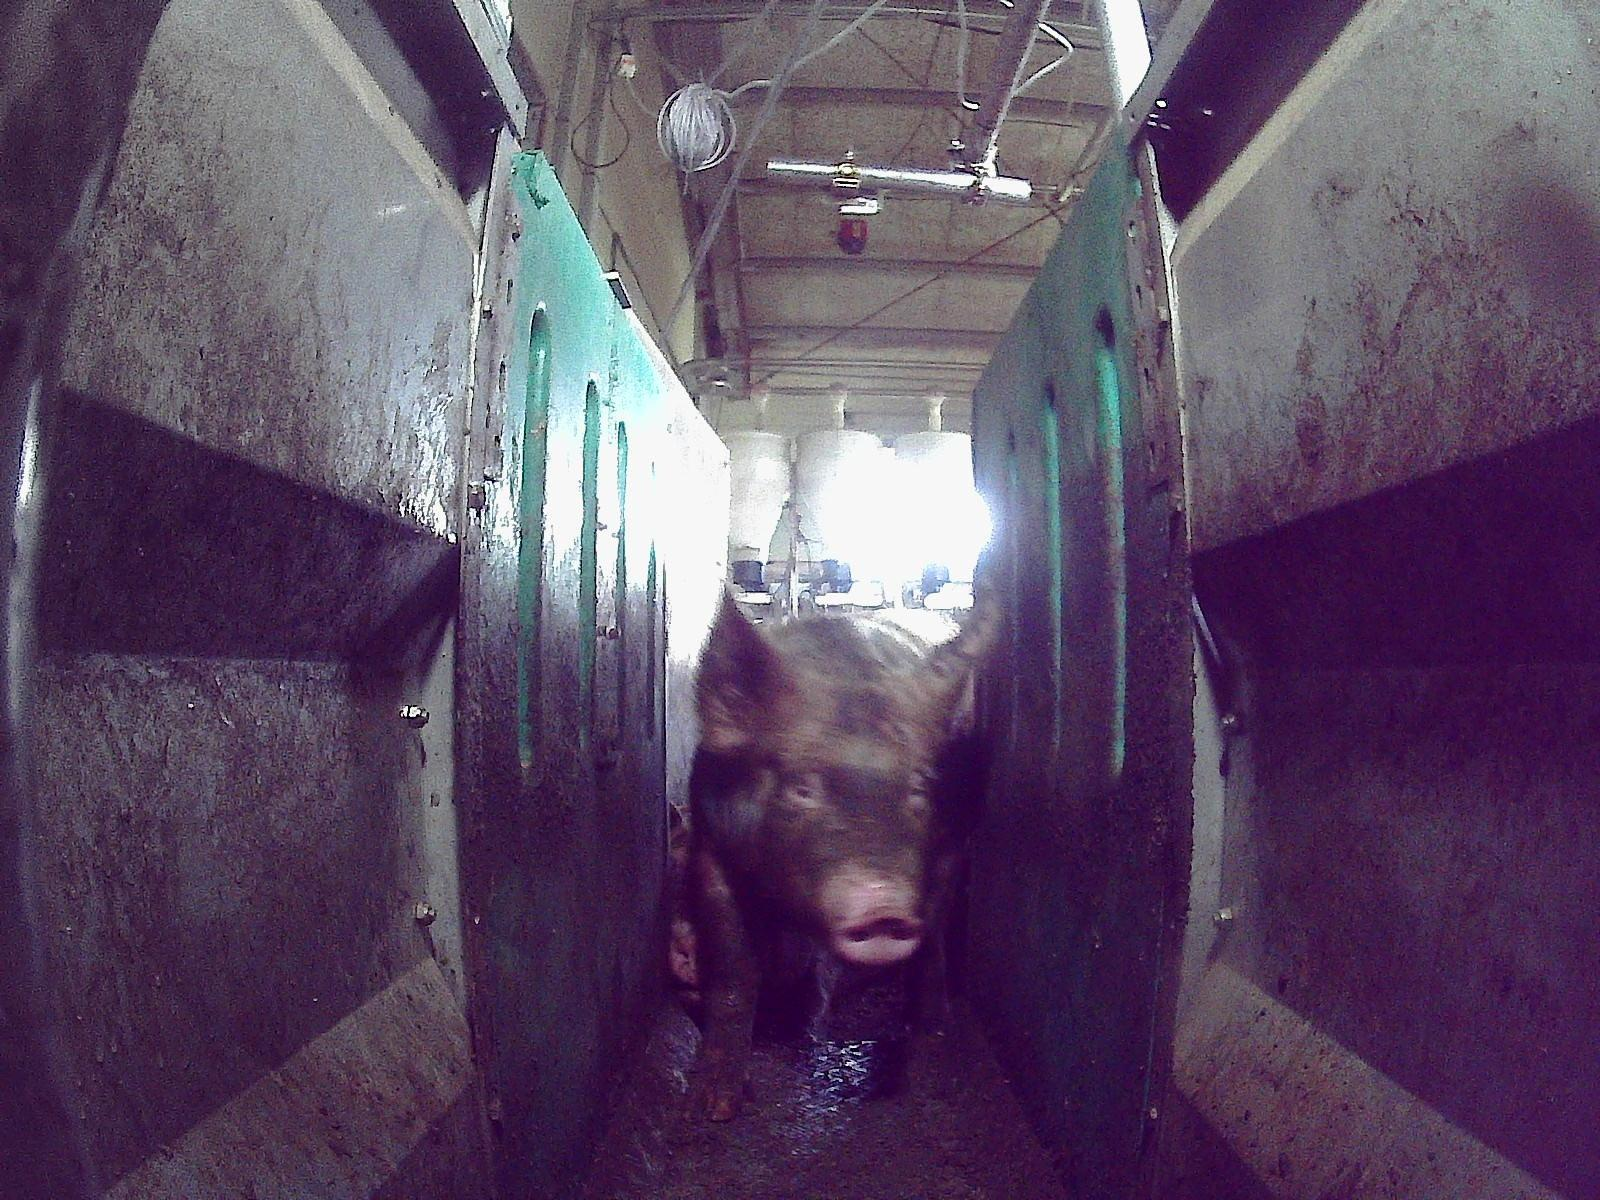Face: (738, 629, 965, 967)
